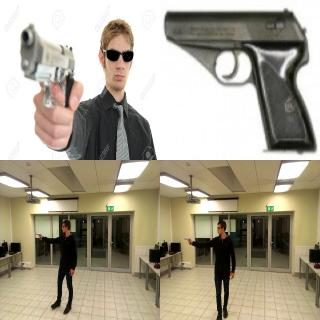gun: (165, 9, 316, 152), (19, 21, 75, 142), (182, 235, 192, 245), (34, 230, 42, 239)
